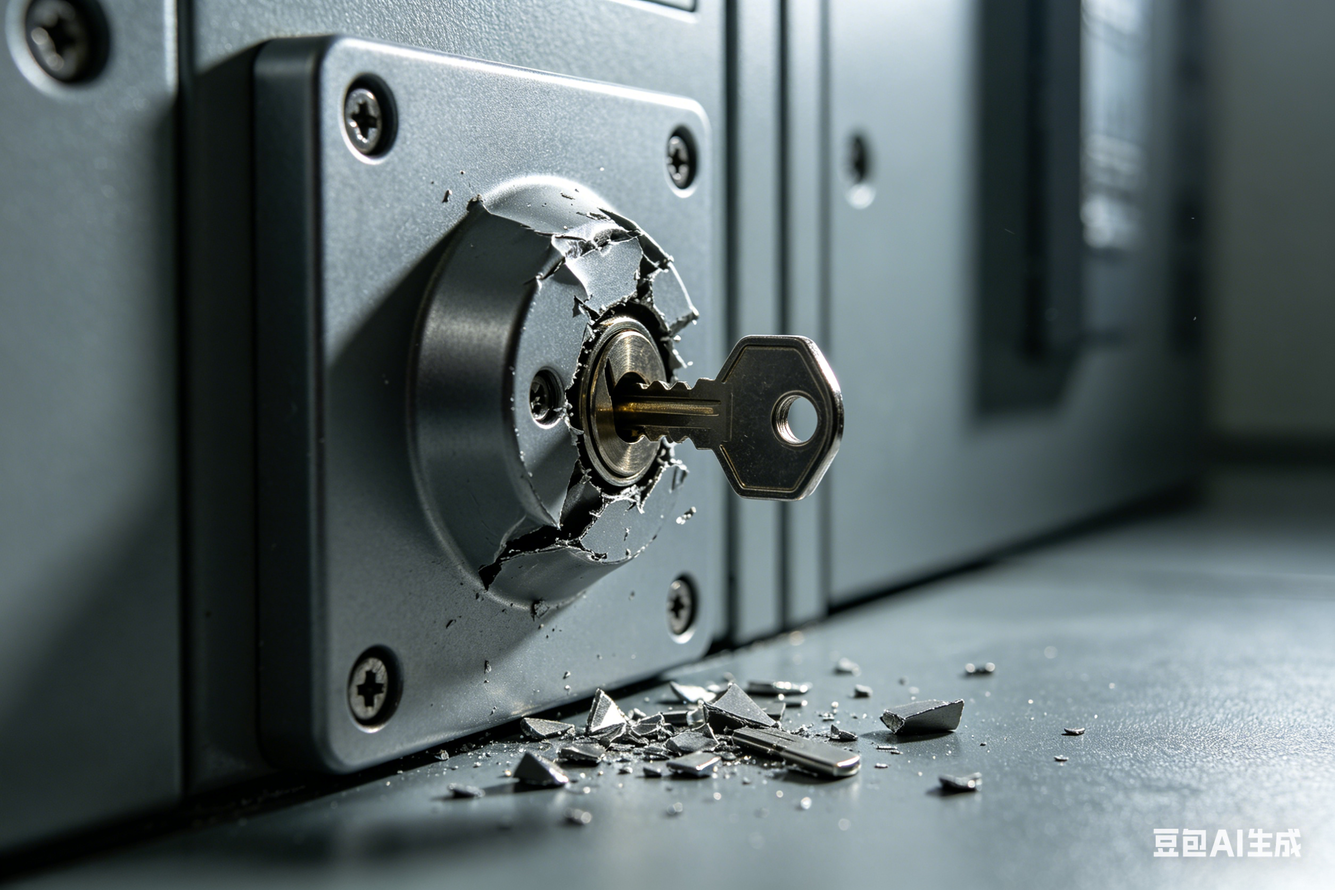BadLock: (500, 223, 732, 558)
